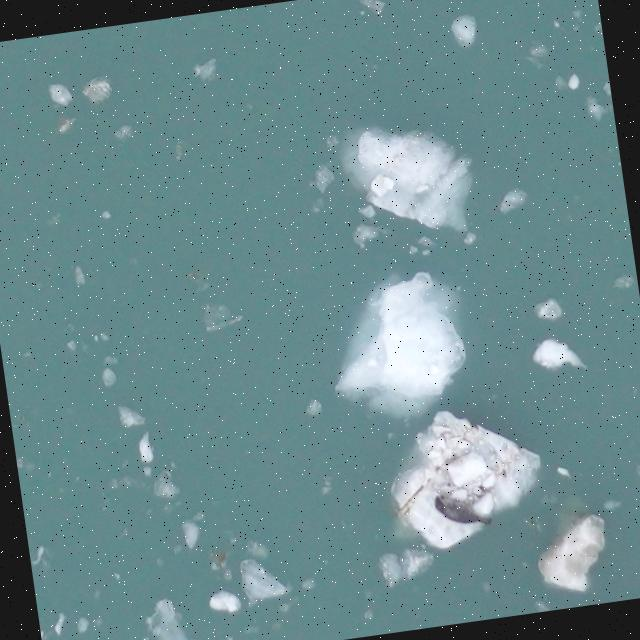seal: (428, 486, 497, 534)
